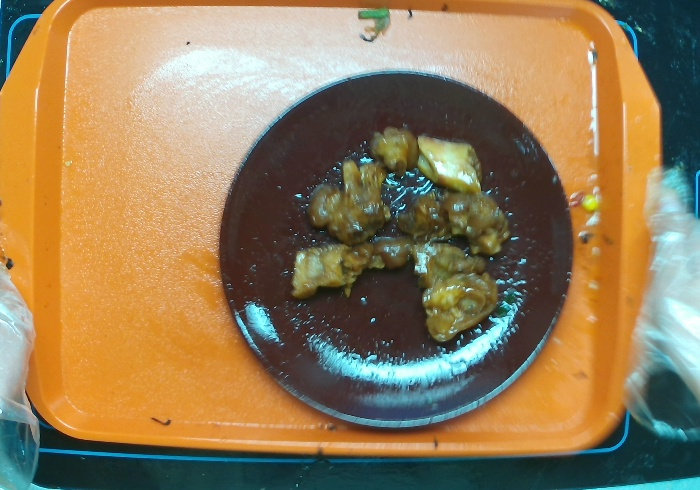HZYJPL-Ka_Fei_Yuan_Pan: (210, 66, 573, 426)
